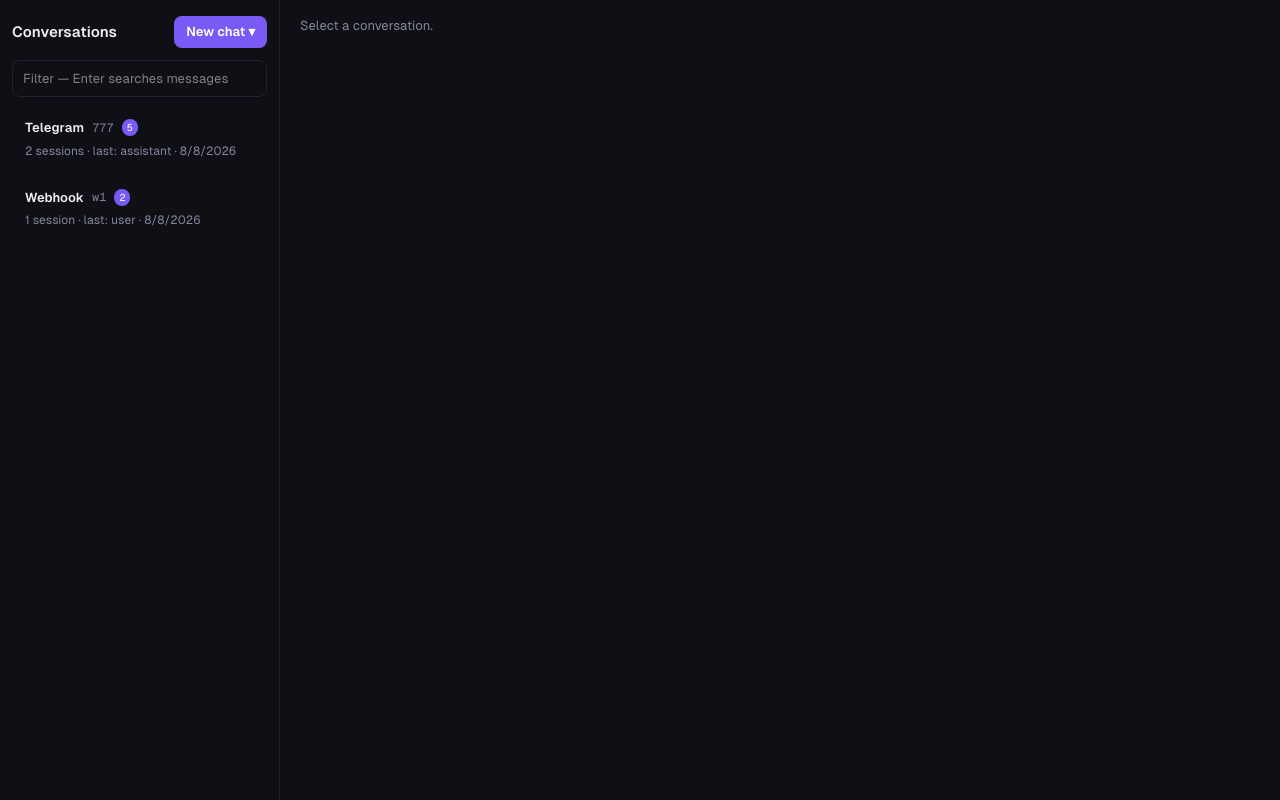
Test: deletion behind explicit confirmation › cancel walks away without deleting
The width and height of the screenshot is (1280, 800).
Click the button "Telegram 777 5 2 sessions · last: assistant · 8/8/2026".
click(140, 139)  # box [12, 107, 267, 170]
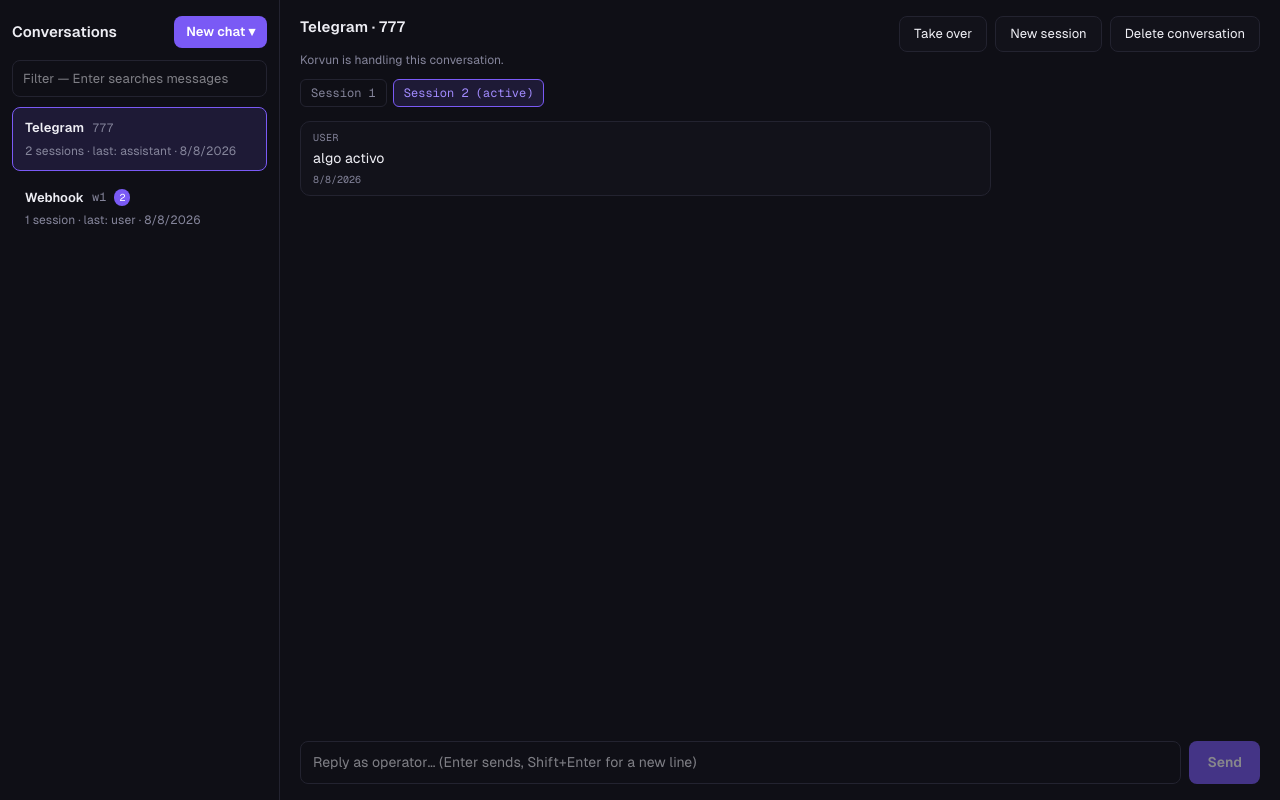
Check: the text "algo activo" is shown, box [313, 150, 384, 166]
Click the button "Delete conversation".
click(1185, 34)  # box [1110, 16, 1260, 52]
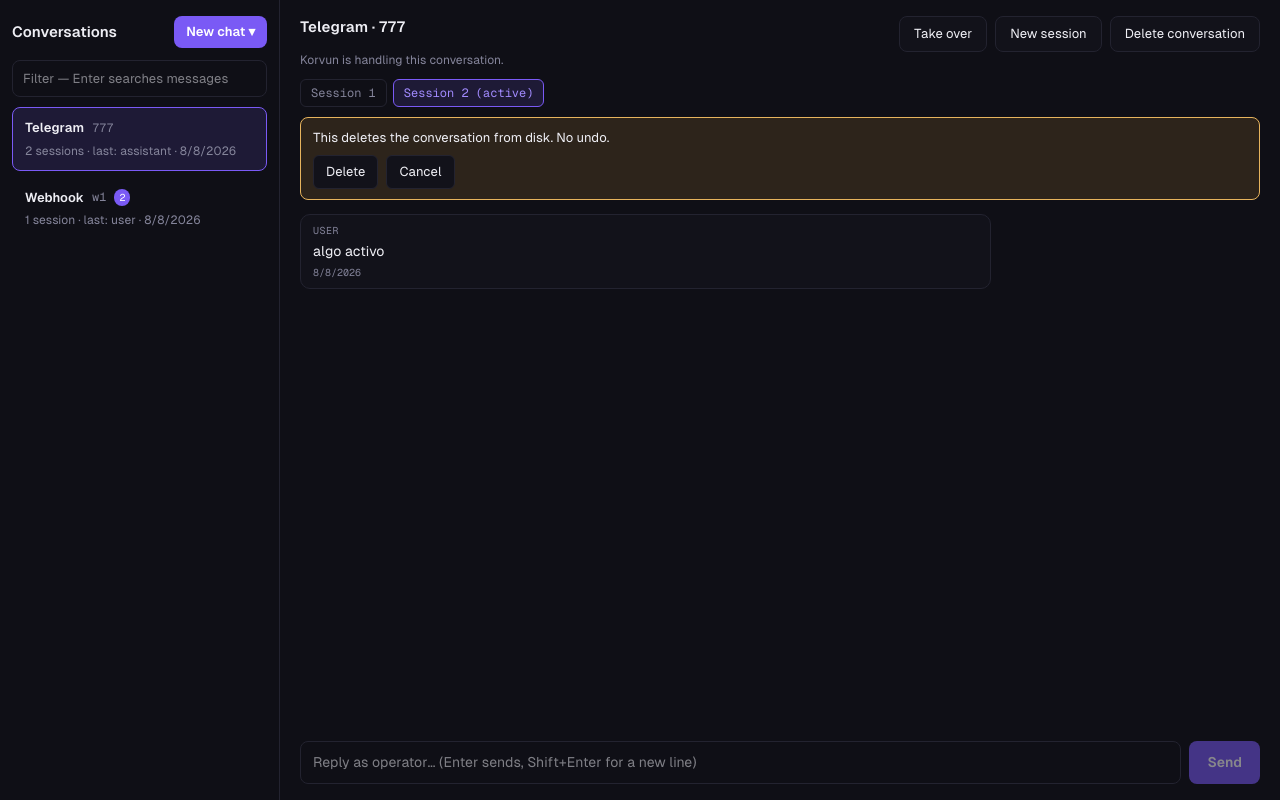
Click the button "Cancel".
click(420, 172)  # box [386, 155, 455, 188]
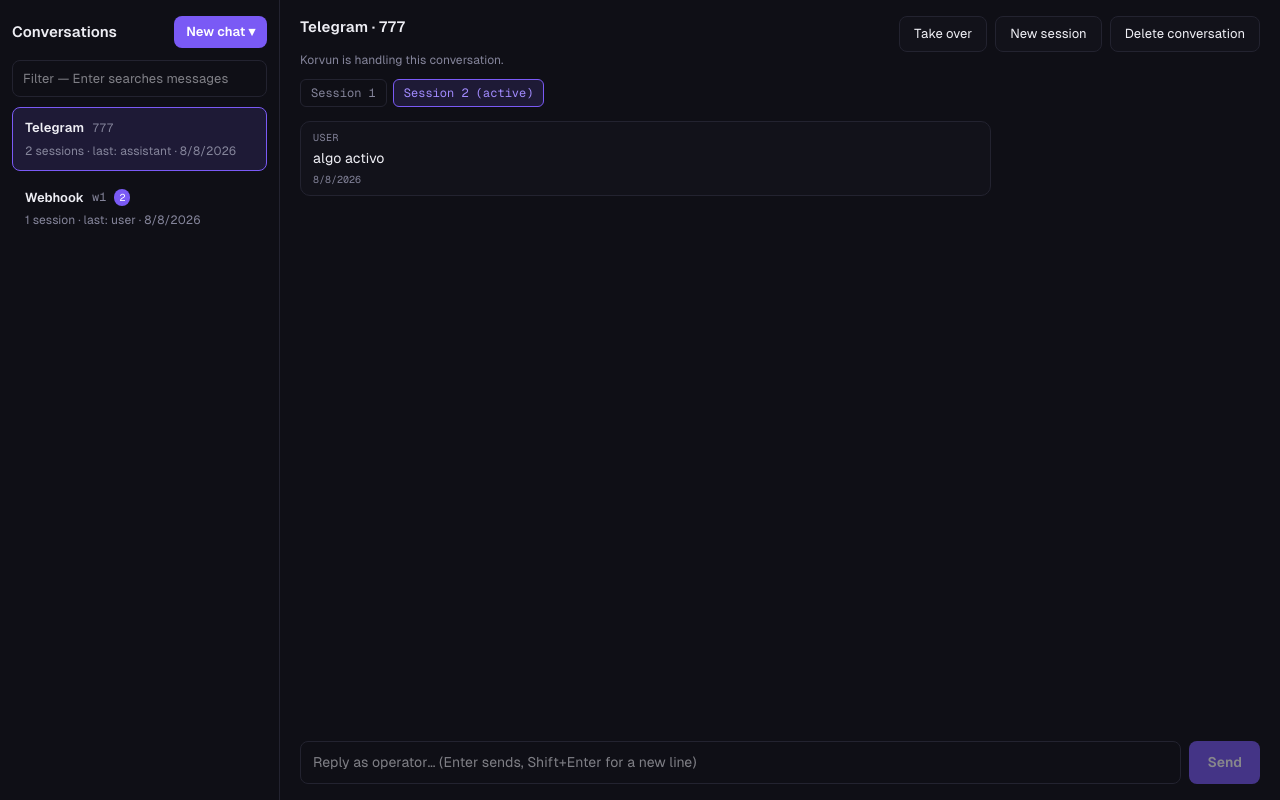
Check: the text "No undo" is gone
